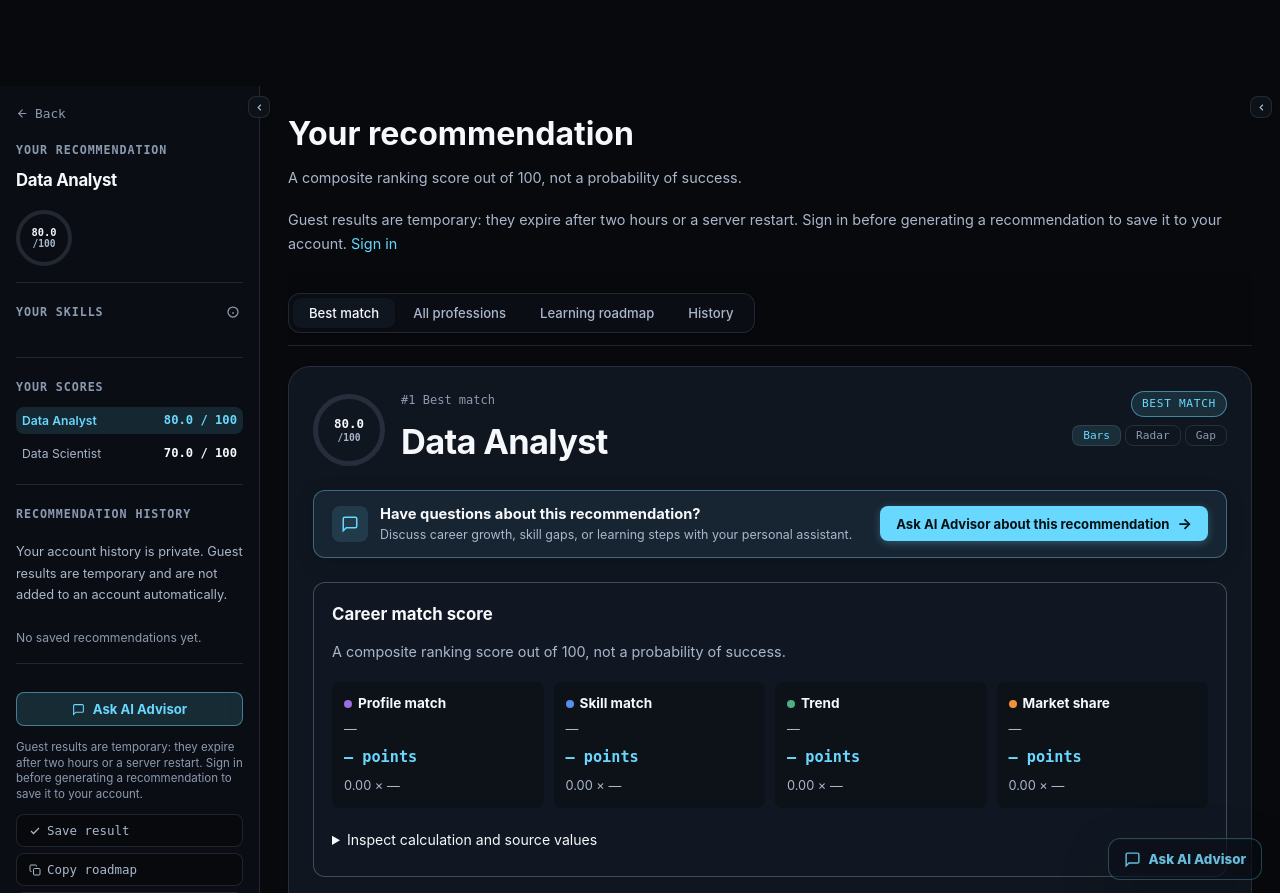
Test case: Results component › split SSE chunks preserve text and show safe provider errors without deleting the key
This screenshot has width=1280, height=893.
Click the button with class "aiFab" at (1185, 859), box [1108,838,1262,880]
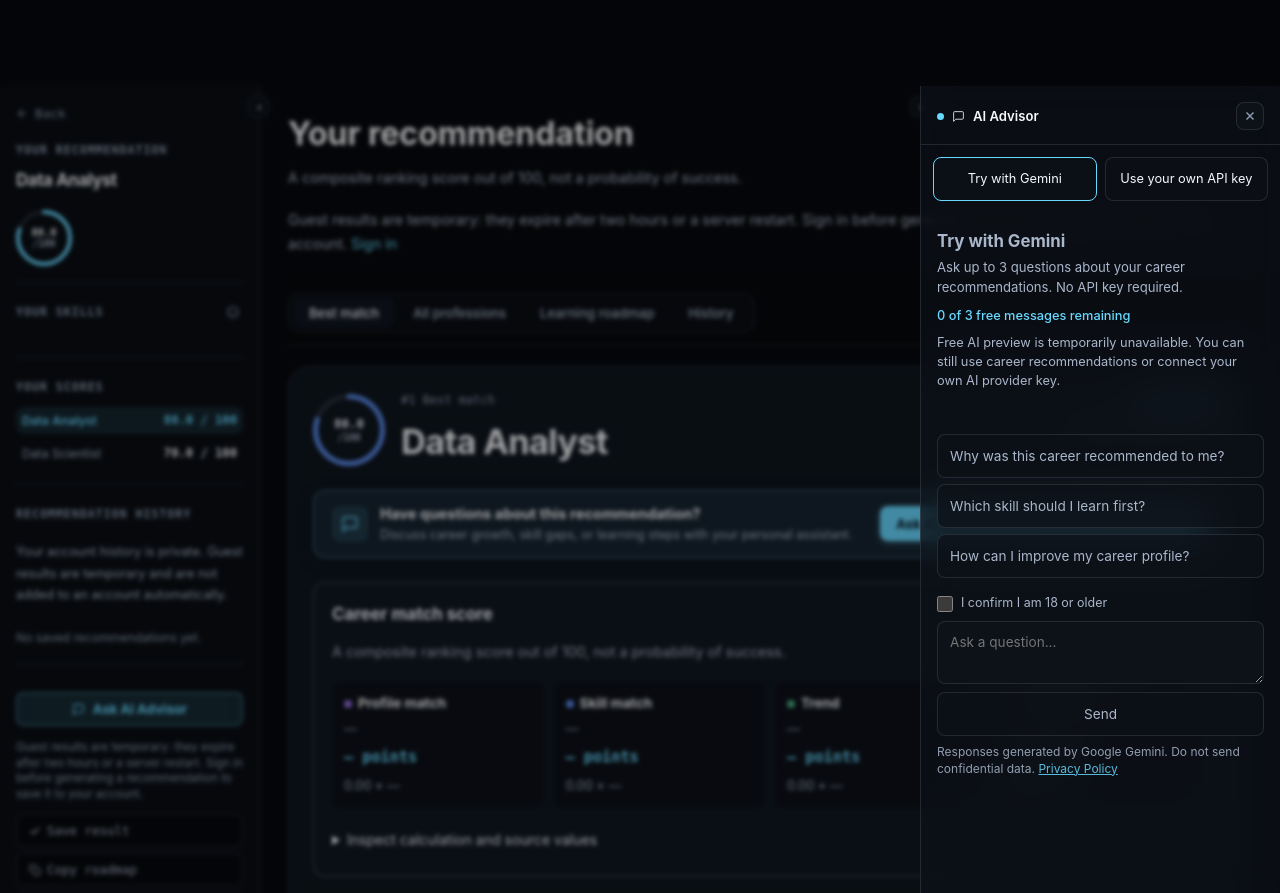
Click the button "Use your own API key" at (1186, 179), box [1104,157,1268,201]
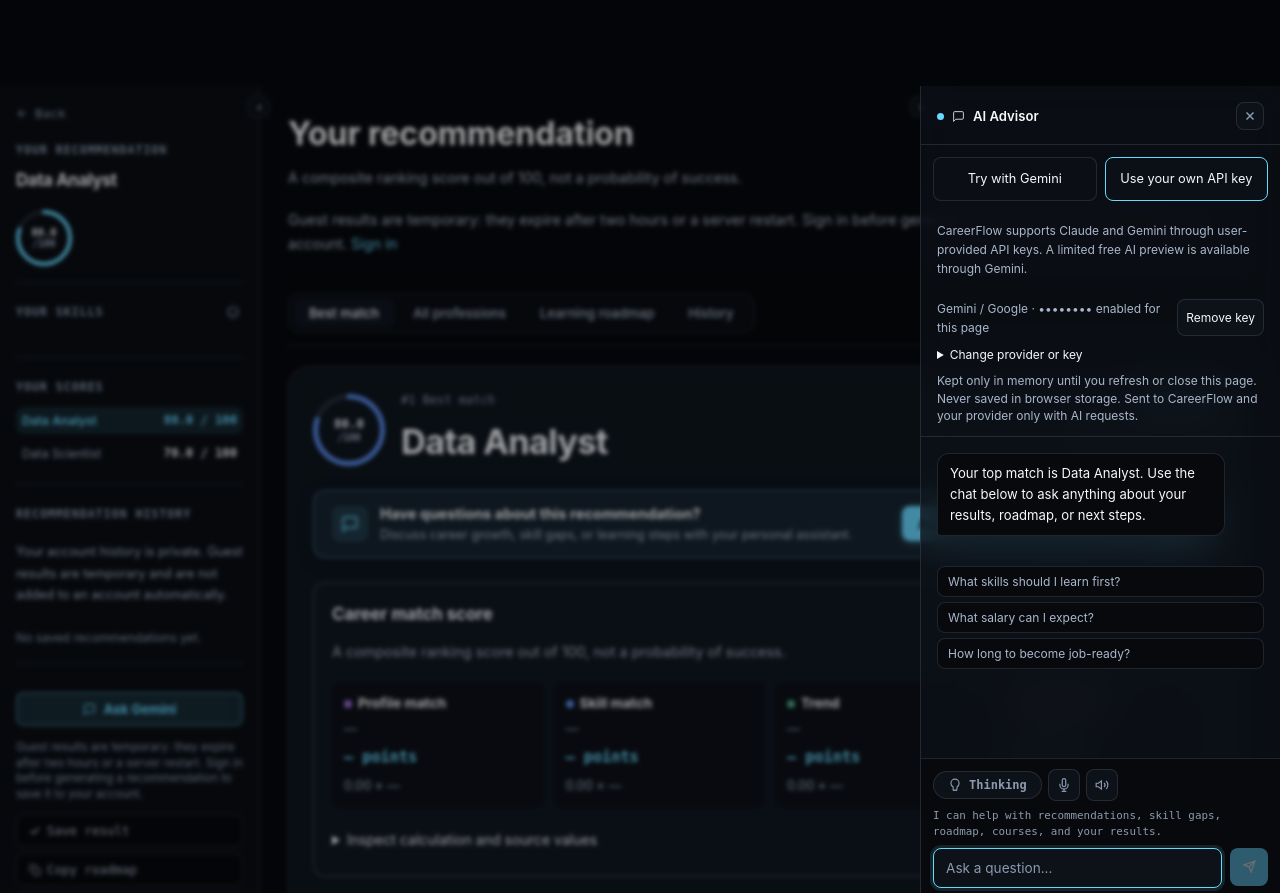
Type "Career advice" into the text box with placeholder "Ask a question..." at (1078, 868), box [933,848,1222,888]
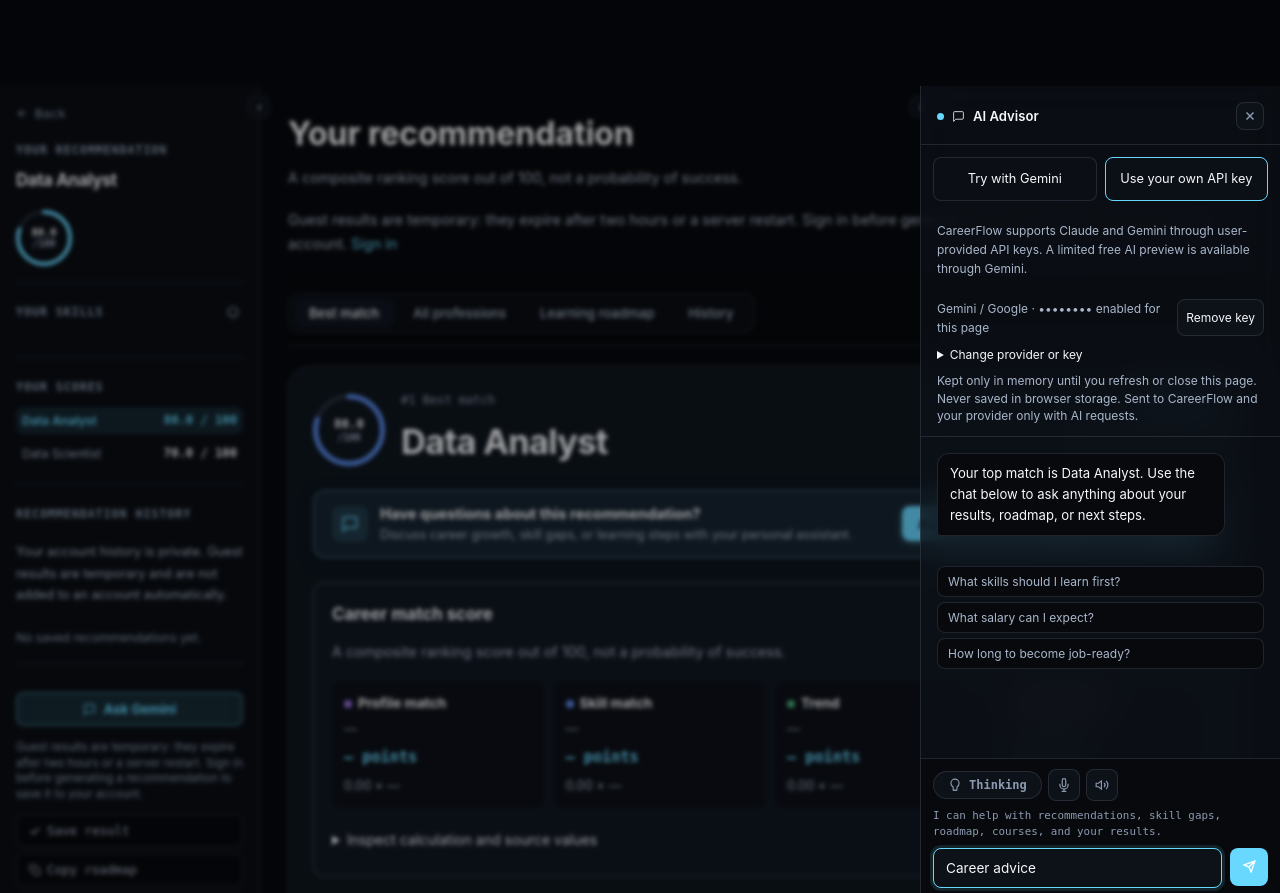
Click the button named "Send" at (1249, 867), box [1230,848,1268,886]
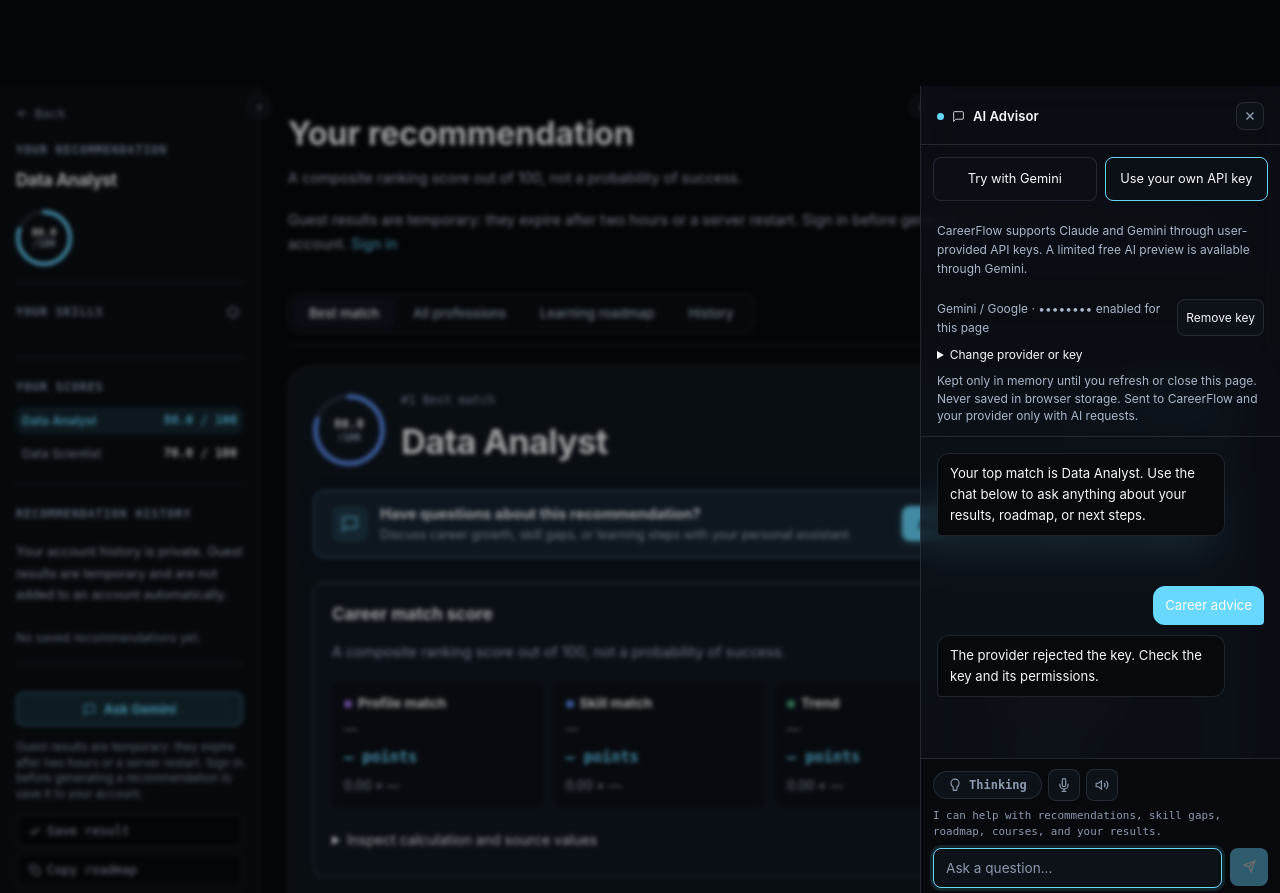
expect the text "The provider rejected the key. Check the key and its permissions." is shown: met, box [937,635,1225,697]
